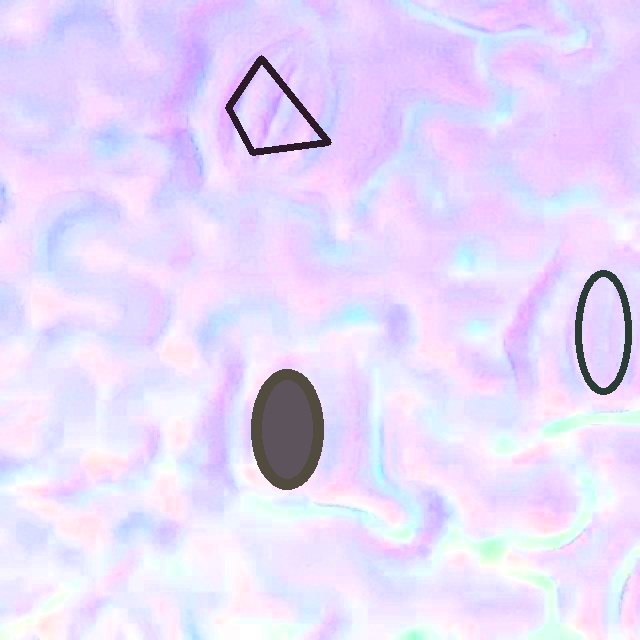close: (251, 370, 323, 489), (574, 269, 632, 396)
open: (225, 56, 331, 155)
